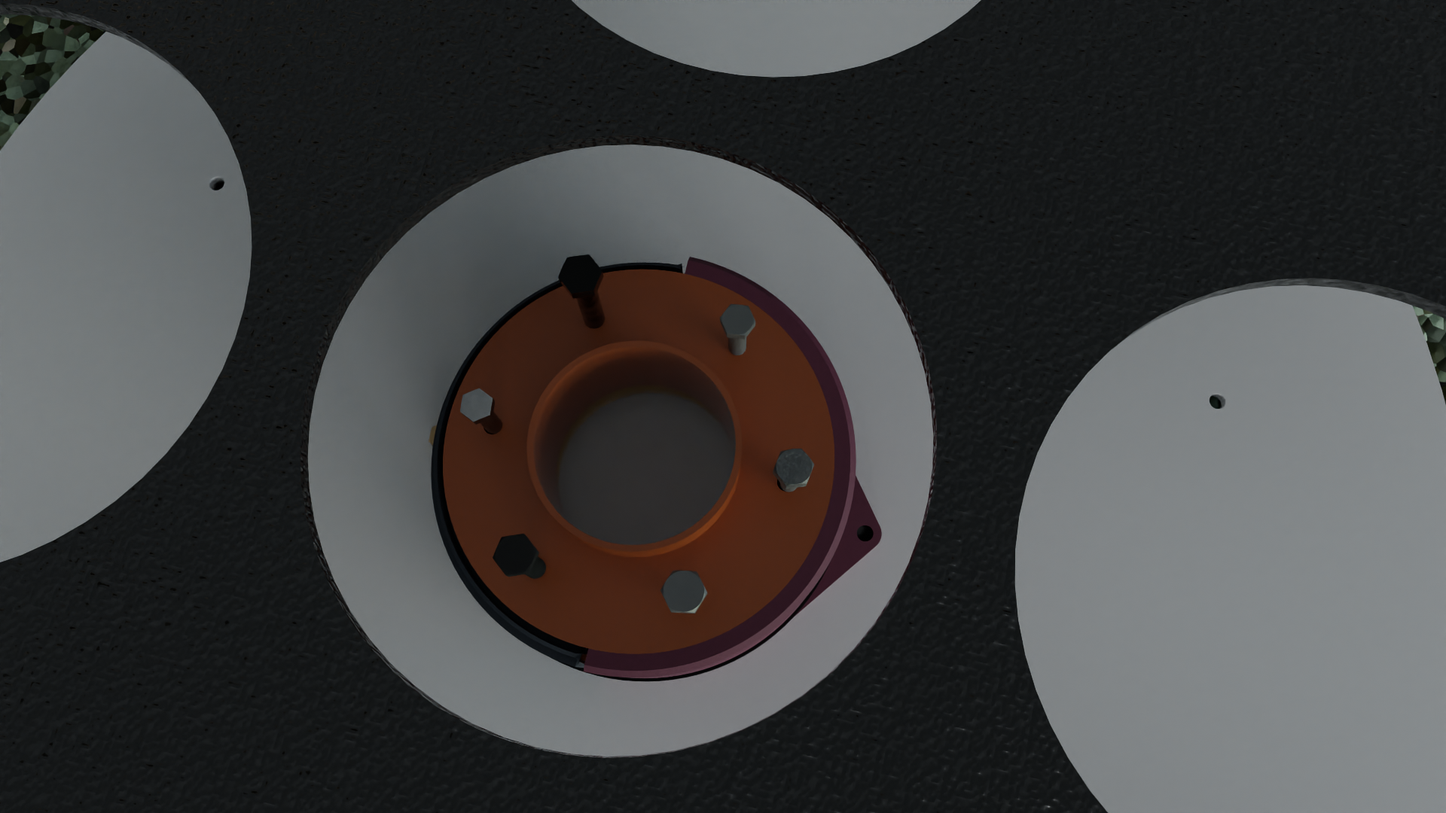bolt: (660, 571, 707, 613), (493, 534, 537, 575), (558, 254, 602, 294), (773, 449, 814, 486), (460, 388, 493, 422), (720, 304, 755, 336)
